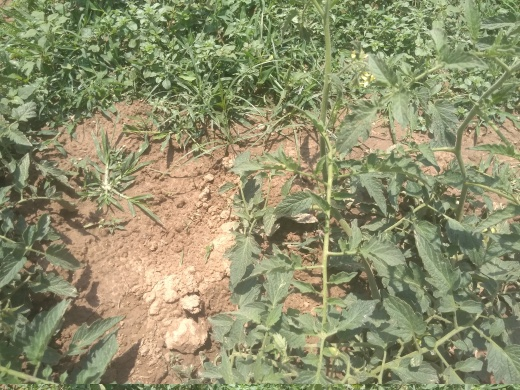tomato flower: (356, 64, 377, 95)
tomato plant: (272, 17, 520, 350), (1, 180, 77, 389)
